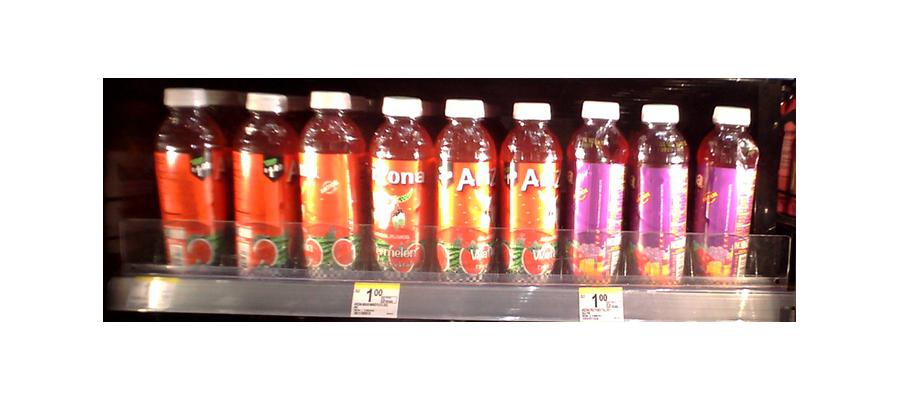bottle: (153, 80, 228, 273), (299, 85, 366, 277), (229, 87, 296, 276), (369, 90, 432, 278), (565, 99, 630, 281), (697, 102, 759, 284), (435, 95, 495, 283), (500, 98, 560, 282), (633, 103, 691, 284)
